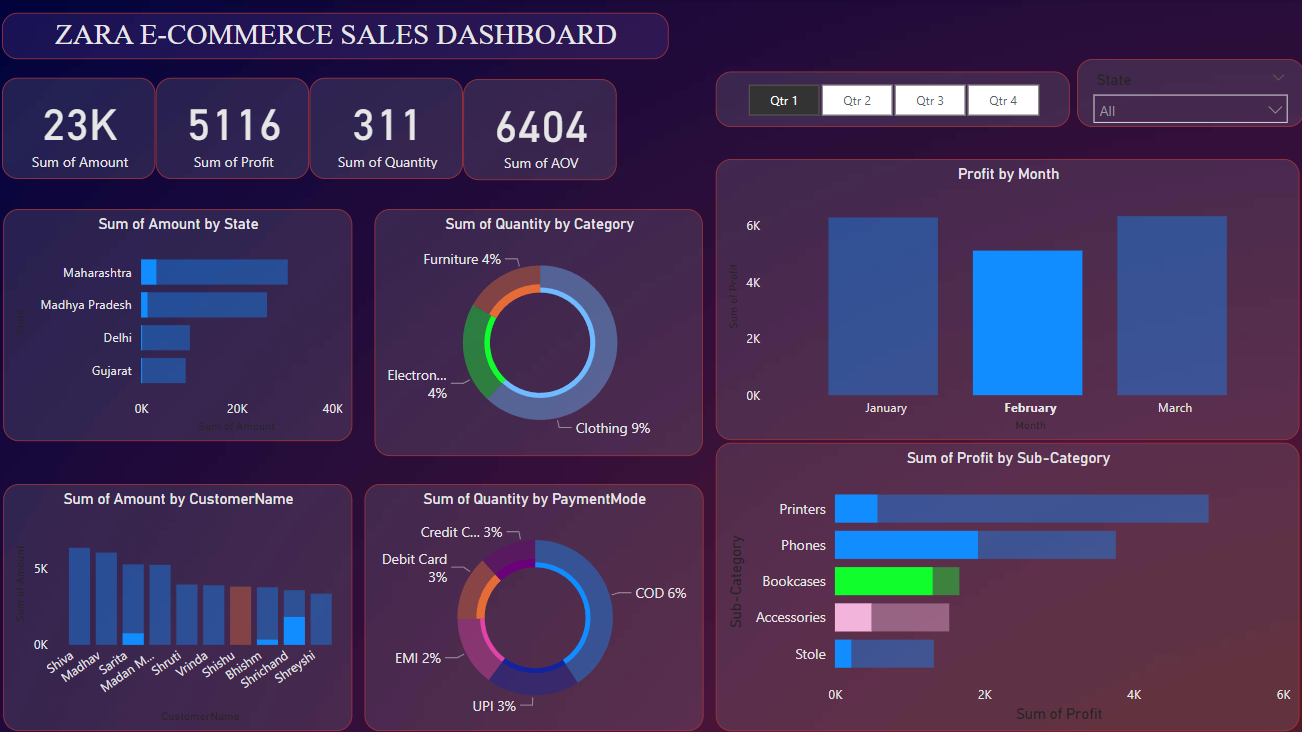

This screenshot's page, from the dashboard's own definition file:
{"tool":"powerbi","page":{"name":"Page 1","canvas":[1280,720],"ordinal":0},"visuals":[{"type":"textbox","title":"ZARA E-COMMERCE SALES DASHBOARD","box":[24.1,13.3,642.8,44.6],"z":0},{"type":"columnChart","title":"Profit by Month","fields":{"Y":["Details.Profit"],"Category":["Orders.Order Date.Variation.Date Hierarchy.Month"]},"box":[712.9,154.9,563.5,271.5],"z":1000},{"type":"barChart","fields":{"Category":["Details.Sub-Category"],"Y":["Details.Profit"]},"box":[712.8,428.1,563.2,278.6],"z":2000},{"type":"donutChart","fields":{"Category":["Details.Category"],"Y":["Details.Quantity"]},"box":[383.5,202.6,317.2,238.8],"z":3000},{"type":"donutChart","fields":{"Y":["Details.Quantity"],"Category":["Details.PaymentMode"]},"box":[373.9,467.9,326.8,238.8],"z":4000},{"type":"card","fields":{"Values":["Details.Amount"]},"box":[24.7,75.4,148.1,97.3],"z":5000},{"type":"card","fields":{"Values":["Details.Profit"]},"box":[172.8,75.4,148.1,97.3],"z":6000},{"type":"card","fields":{"Values":["Details.Quantity"]},"box":[320.8,75.4,148.1,97.3],"z":7000},{"type":"card","fields":{"Values":["Details.AOV"]},"box":[468.9,76.8,148.1,97.3],"z":8000},{"type":"barChart","fields":{"Y":["Details.Amount"],"Category":["Orders.State"]},"box":[25.3,202.6,336.5,224.3],"z":9000},{"type":"columnChart","fields":{"Category":["Orders.CustomerName"],"Y":["Details.Amount"]},"box":[25.3,467.9,336.5,238.8],"z":10000},{"type":"slicer","fields":{"Values":["Orders.Order Date.Variation.Date Hierarchy.Quarter"]},"box":[712.9,69.9,341.4,53.5],"z":11000},{"type":"slicer","fields":{"Values":["Orders.State"]},"box":[1061.2,57.6,219.4,65.8],"z":12000}]}

Visuals, with their boxes in screenshot pixels (x1, y1, x2, y2), scaled from the page's 1280x720 canvas onto the 1302x732 screenshot:
"ZARA E-COMMERCE SALES DASHBOARD" textbox: [left=25, top=14, right=678, bottom=59]
"Profit by Month" columnChart: [left=725, top=157, right=1298, bottom=434]
barChart - Details.Sub-Category x Details.Profit: [left=725, top=435, right=1298, bottom=718]
donutChart - Details.Category x Details.Quantity: [left=390, top=206, right=713, bottom=449]
donutChart - Details.Quantity x Details.PaymentMode: [left=380, top=476, right=713, bottom=718]
card - Details.Amount: [left=25, top=77, right=176, bottom=176]
card - Details.Profit: [left=176, top=77, right=326, bottom=176]
card - Details.Quantity: [left=326, top=77, right=477, bottom=176]
card - Details.AOV: [left=477, top=78, right=628, bottom=177]
barChart - Details.Amount x Orders.State: [left=26, top=206, right=368, bottom=434]
columnChart - Orders.CustomerName x Details.Amount: [left=26, top=476, right=368, bottom=718]
slicer - Orders.Order Date.Variation.Date Hierarchy.Quarter: [left=725, top=71, right=1072, bottom=125]
slicer - Orders.State: [left=1079, top=59, right=1301, bottom=125]
